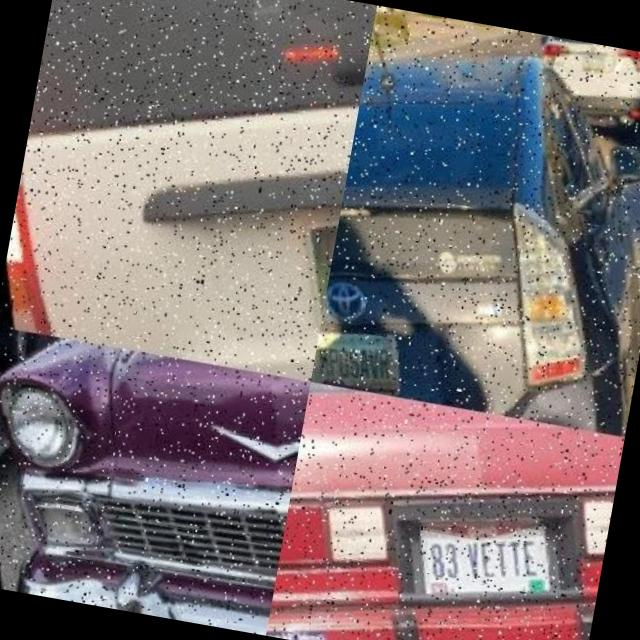LicensePlate: (412, 521, 539, 593), (309, 330, 390, 395)
